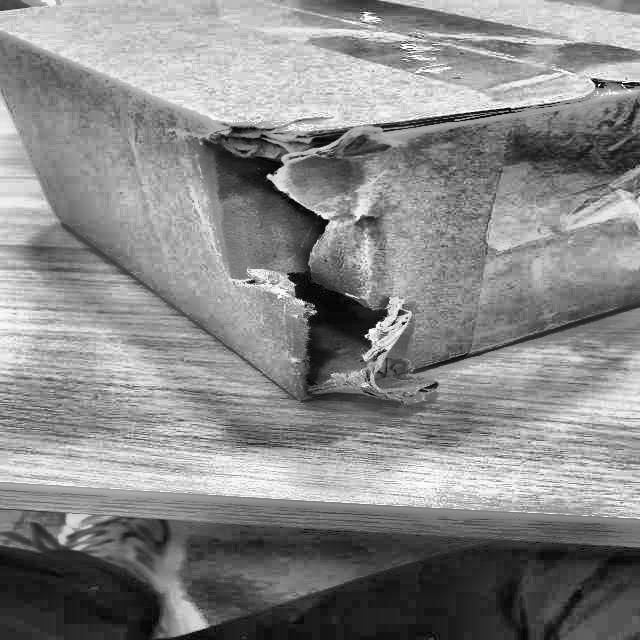box: (0, 0, 640, 422)
hole: (169, 119, 389, 253), (257, 255, 437, 403)
